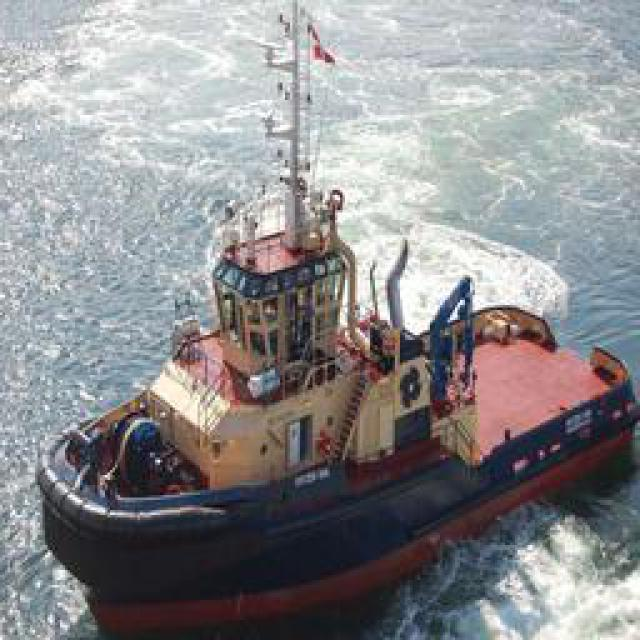Ship: (42, 108, 620, 623)
